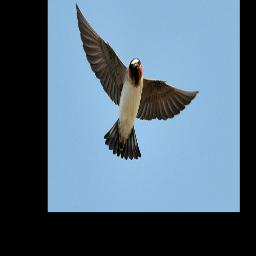Swallow: (74, 1, 199, 161)
